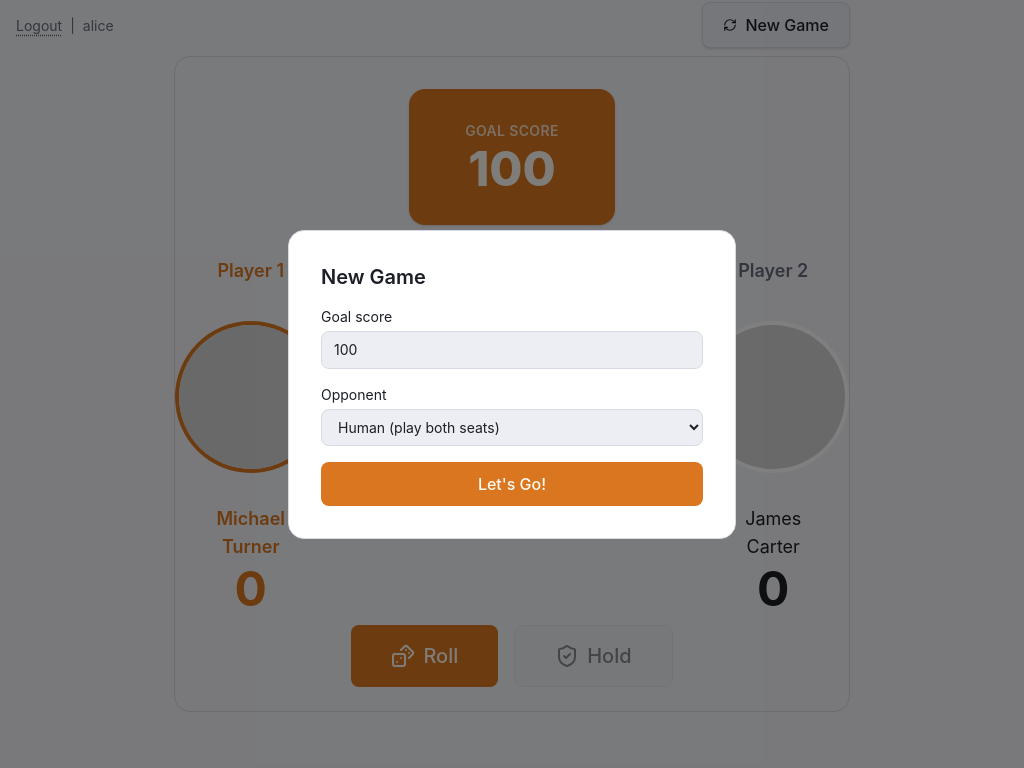
it: GamePage › AI opponent selection (§8) › should show the AI seat selector only after choosing the AI opponent
expect the heading "New Game" is shown: met, box [321,264,426,288]
expect the field labelled "AI plays seat" is not shown: met
Select "AI" in the dropdown labelled "Opponent". click: [512, 427]
box: [321,408,703,446]
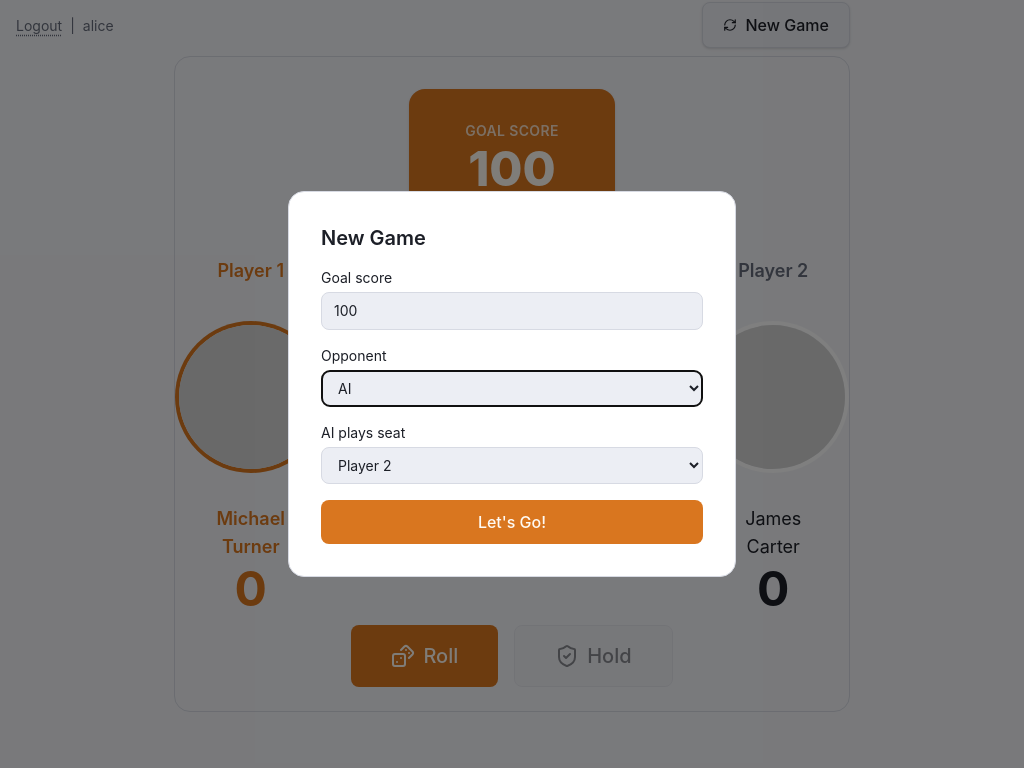
expect the dropdown labelled "AI plays seat" is shown: met, box [321,447,703,484]
